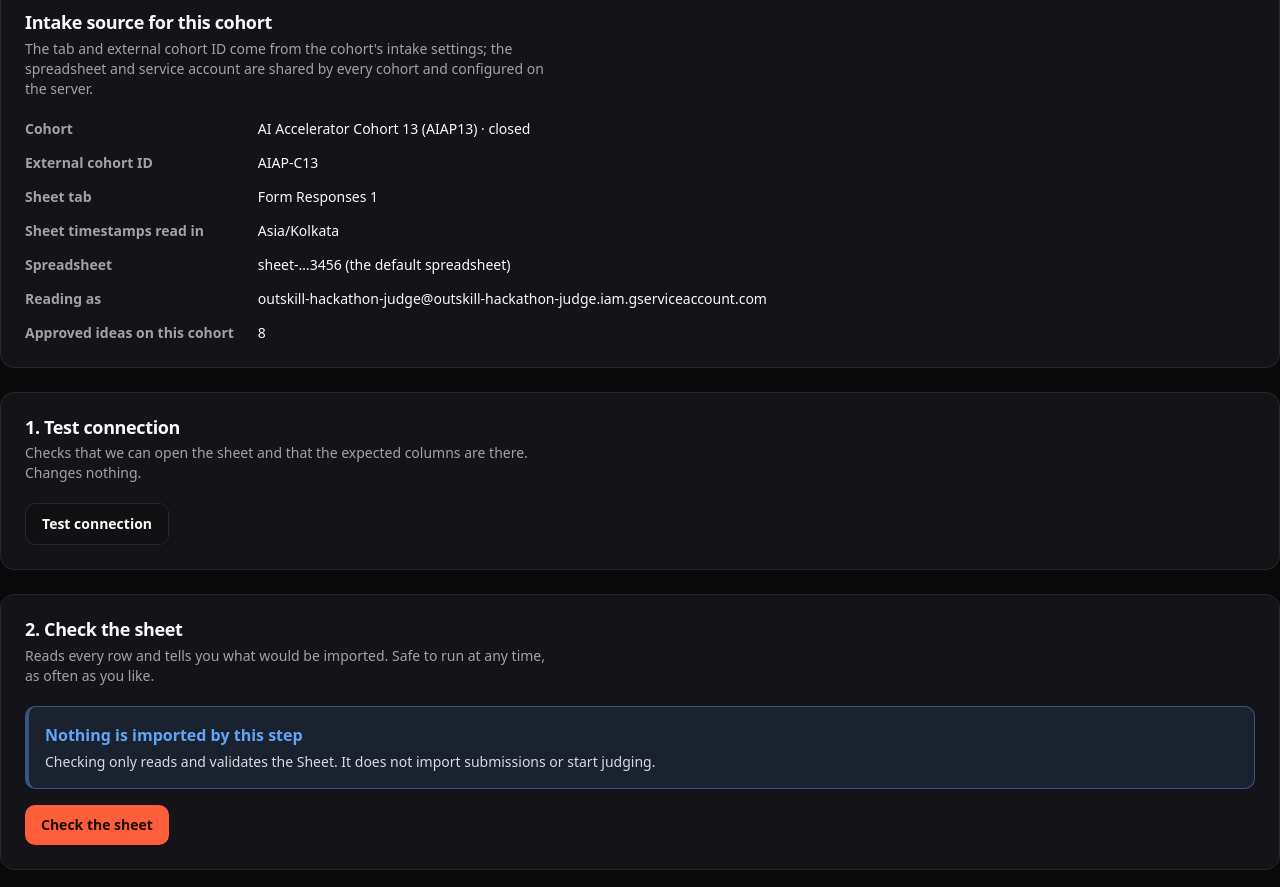
Scenario: after checking the sheet › explains each problem in plain language, by group
Click the button "Check the sheet".
click(97, 825)  # box [25, 805, 169, 845]
(page scrolled)
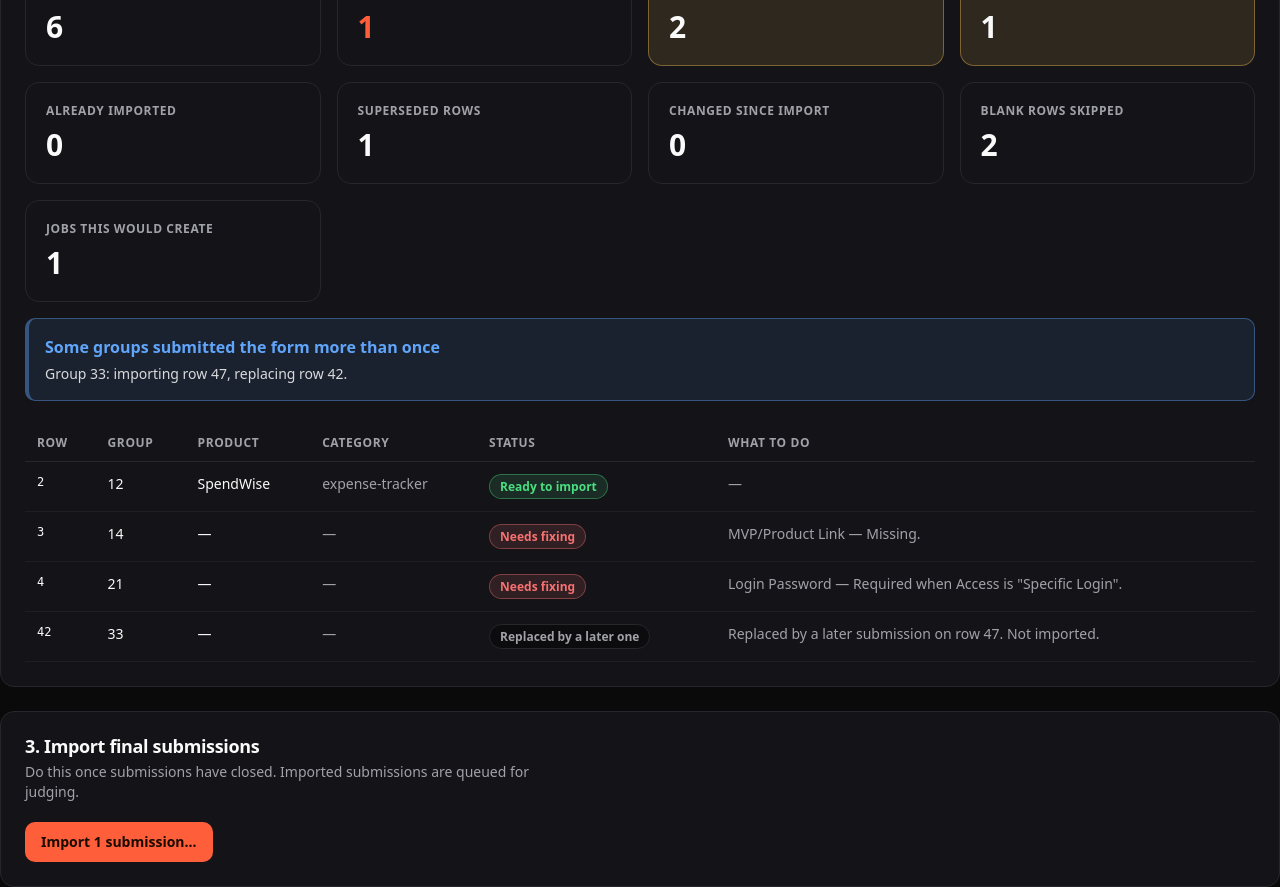
expect the text "MVP/Product Link — Missing." is shown: met, box [716, 511, 1255, 561]
expect the text "Login Password — Required when Access is \"Specific Login\"." is shown: met, box [716, 561, 1255, 611]
expect the text "Replaced by a later submission on row 47. Not imported." is shown: met, box [716, 611, 1255, 661]
